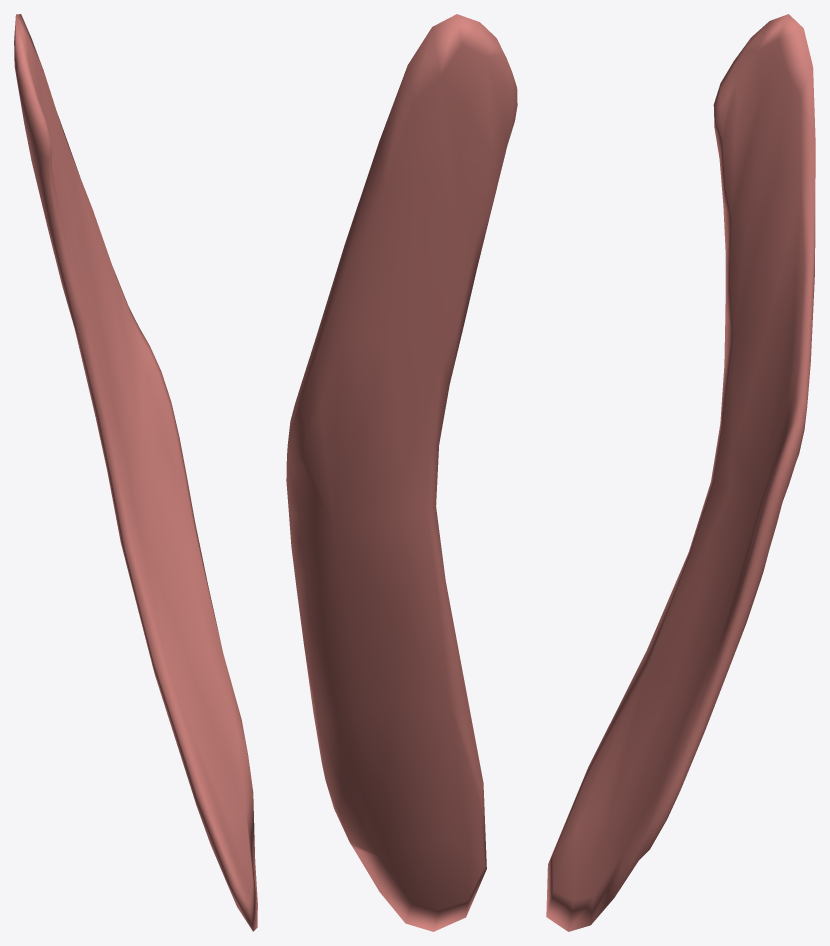
The picture shows the model from 3 angles, left to right: view 1: azimuth 30°, elevation 25°; view 2: azimuth 150°, elevation 25°; view 3: azimuth 270°, elevation 25°; orthographic projection. The views are drawn at different scales.
Parts seen in each view (by area): view 1: ZA_995979fdbd9d49c7; view 2: ZA_995979fdbd9d49c7; view 3: ZA_995979fdbd9d49c7.
Boxes of the visible parts, box(x1,y1,x2,y2) form: ZA_995979fdbd9d49c7: box(14, 14, 257, 931); ZA_995979fdbd9d49c7: box(286, 14, 517, 931); ZA_995979fdbd9d49c7: box(546, 14, 815, 931).
Size of the model in its own units: 0.00531 by 0.0239 by 0.00683.
